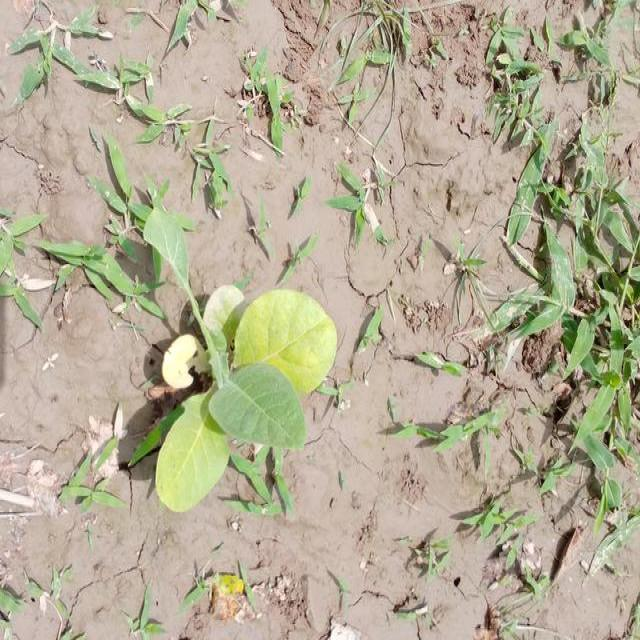crop: (139, 202, 339, 522)
